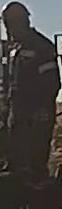helmet: (1, 1, 33, 23)
vest: (8, 32, 57, 142)
